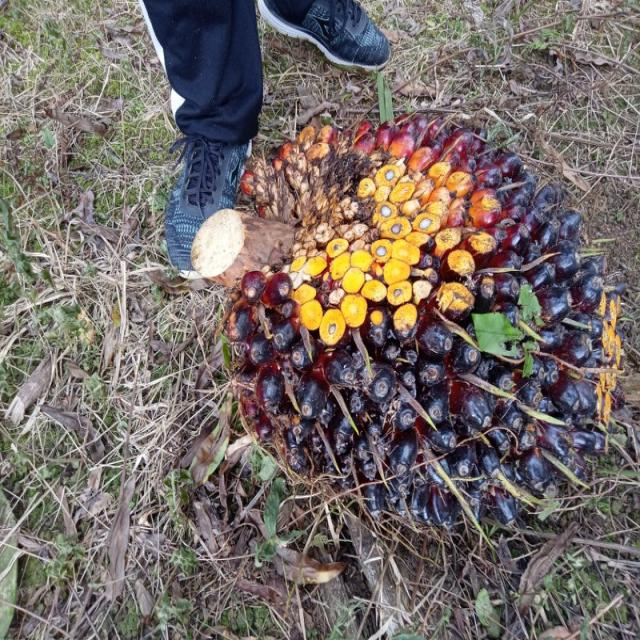fraksi 00: (246, 129, 616, 536)
